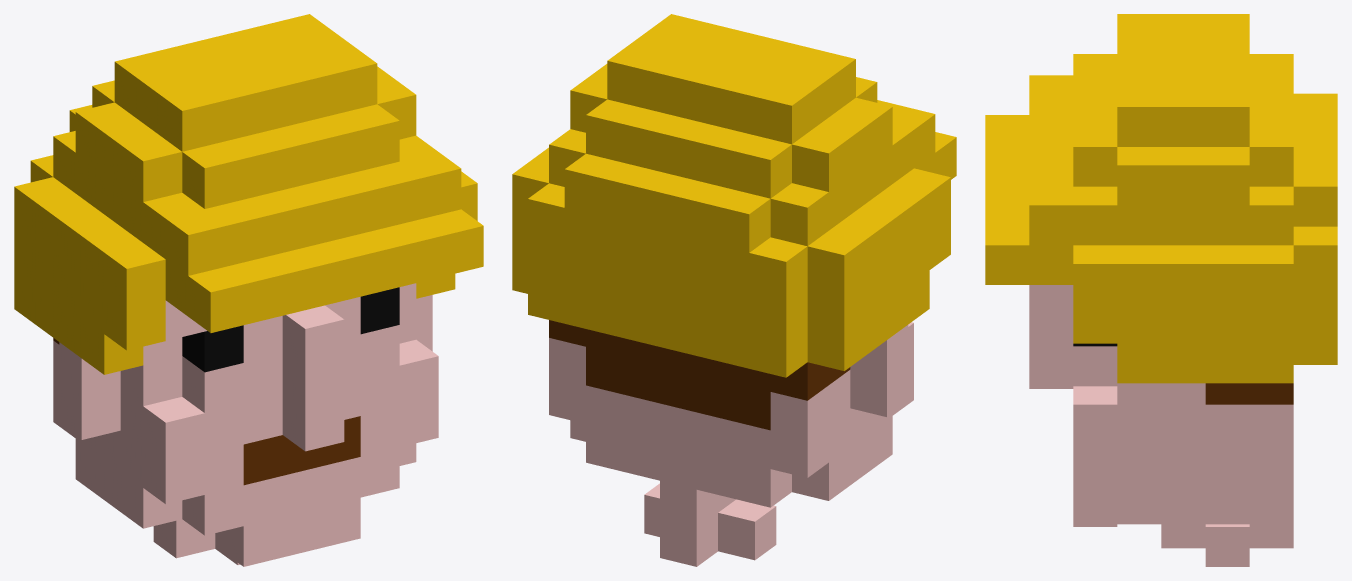
Rendered from Head.fbx.
3 views of the same model, side by side, from view 1: azimuth 30°, elevation 25°; view 2: azimuth 150°, elevation 25°; view 3: azimuth 270°, elevation 25° (orthographic). The views are drawn at different scales.
Parts seen in each view (by area): view 1: Head; view 2: Head; view 3: Head.
Boxes of the visible parts, box(x1,y1,x2,y2) form: Head: box(14, 14, 483, 566); Head: box(512, 14, 956, 566); Head: box(985, 14, 1337, 566).
Bounding box in the file's own units: 90 × 120 × 80.
